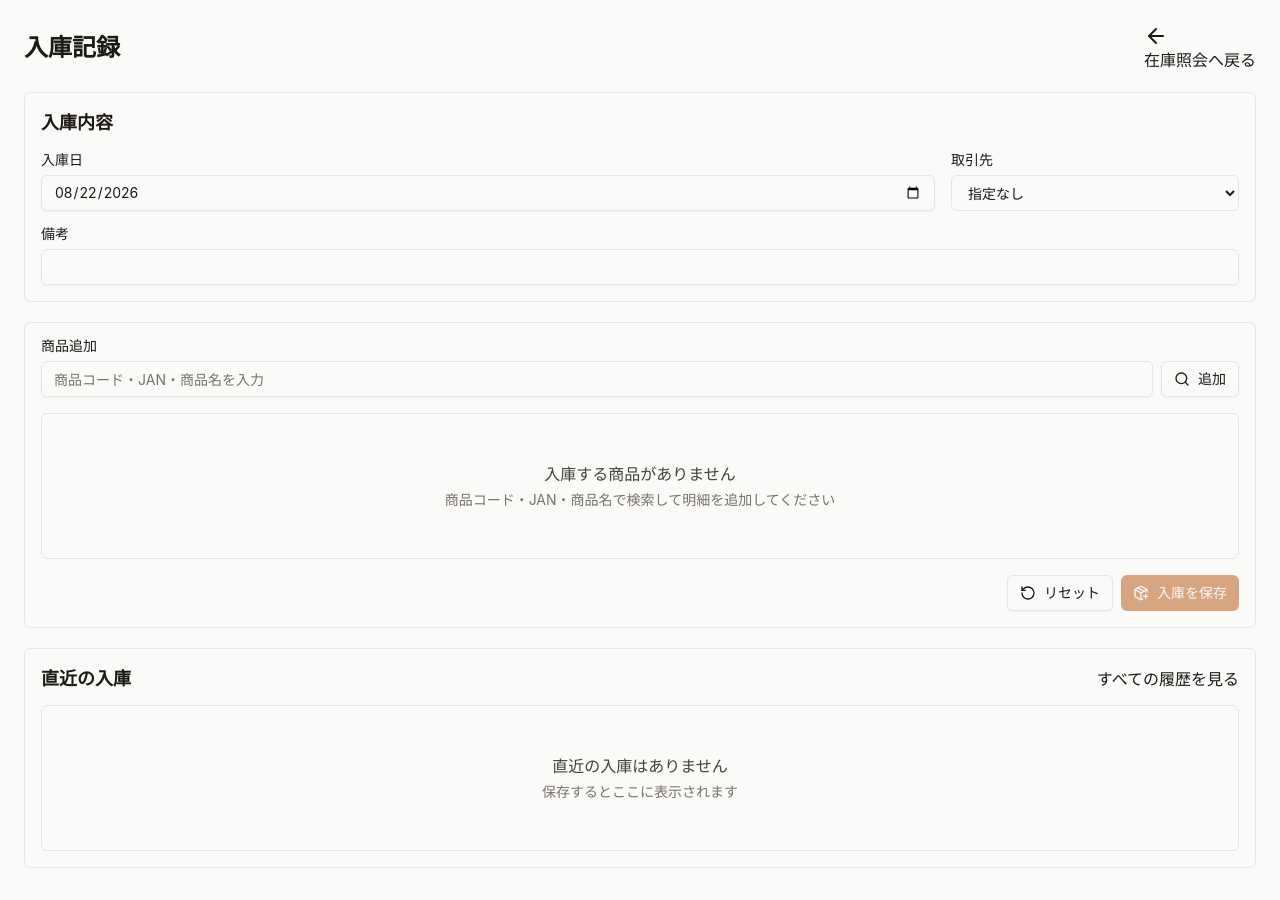
Test case: ReceivingPage ProductAddSuggest (UI-02-D14) › W8: activeなしEnterは既存commit検索を実行する
Type "RC-E1" into the dropdown named "入庫商品検索" at (597, 379), box [41, 361, 1153, 397]
Then press Enter
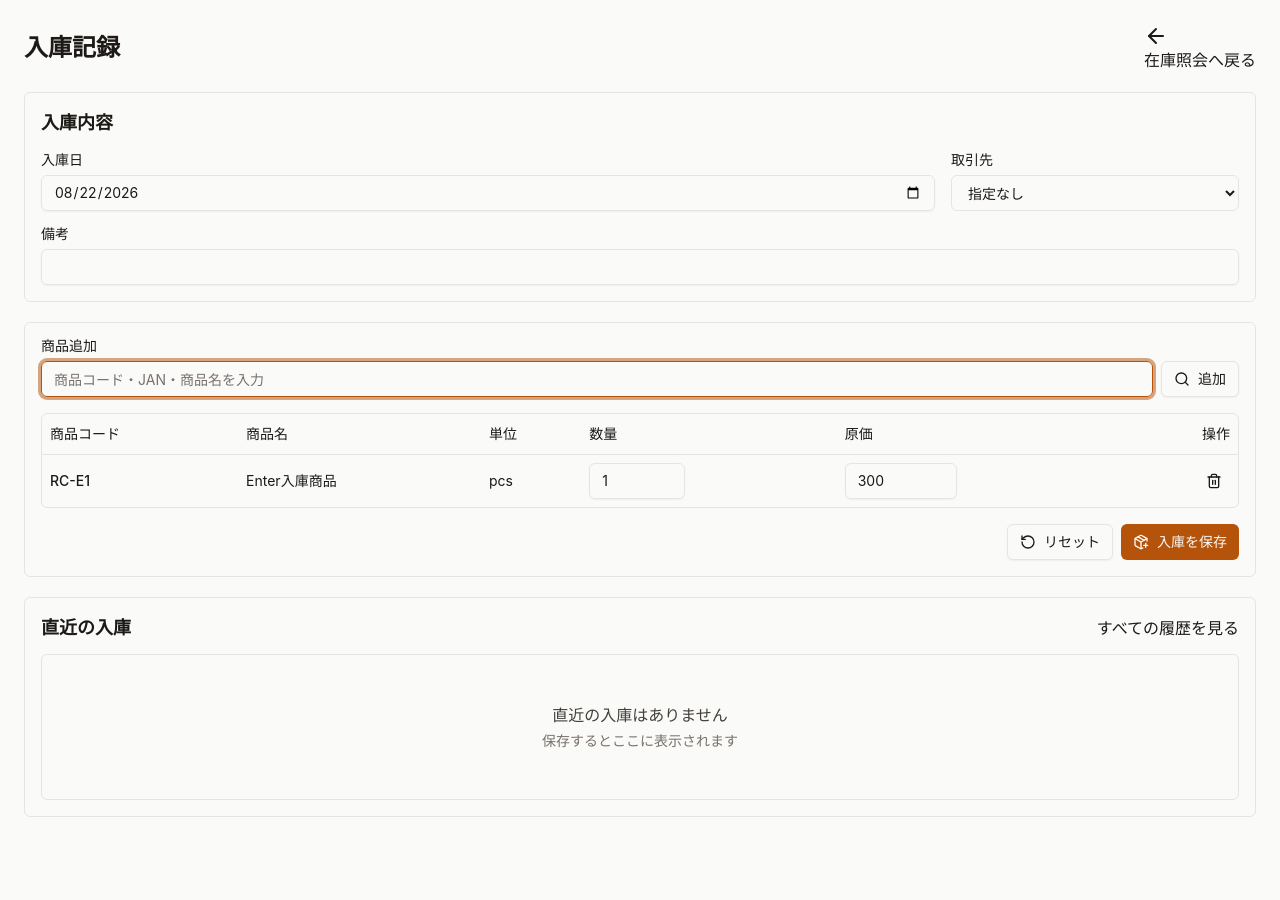
Result: the text "Enter入庫商品" is shown at [238, 454, 481, 506]
